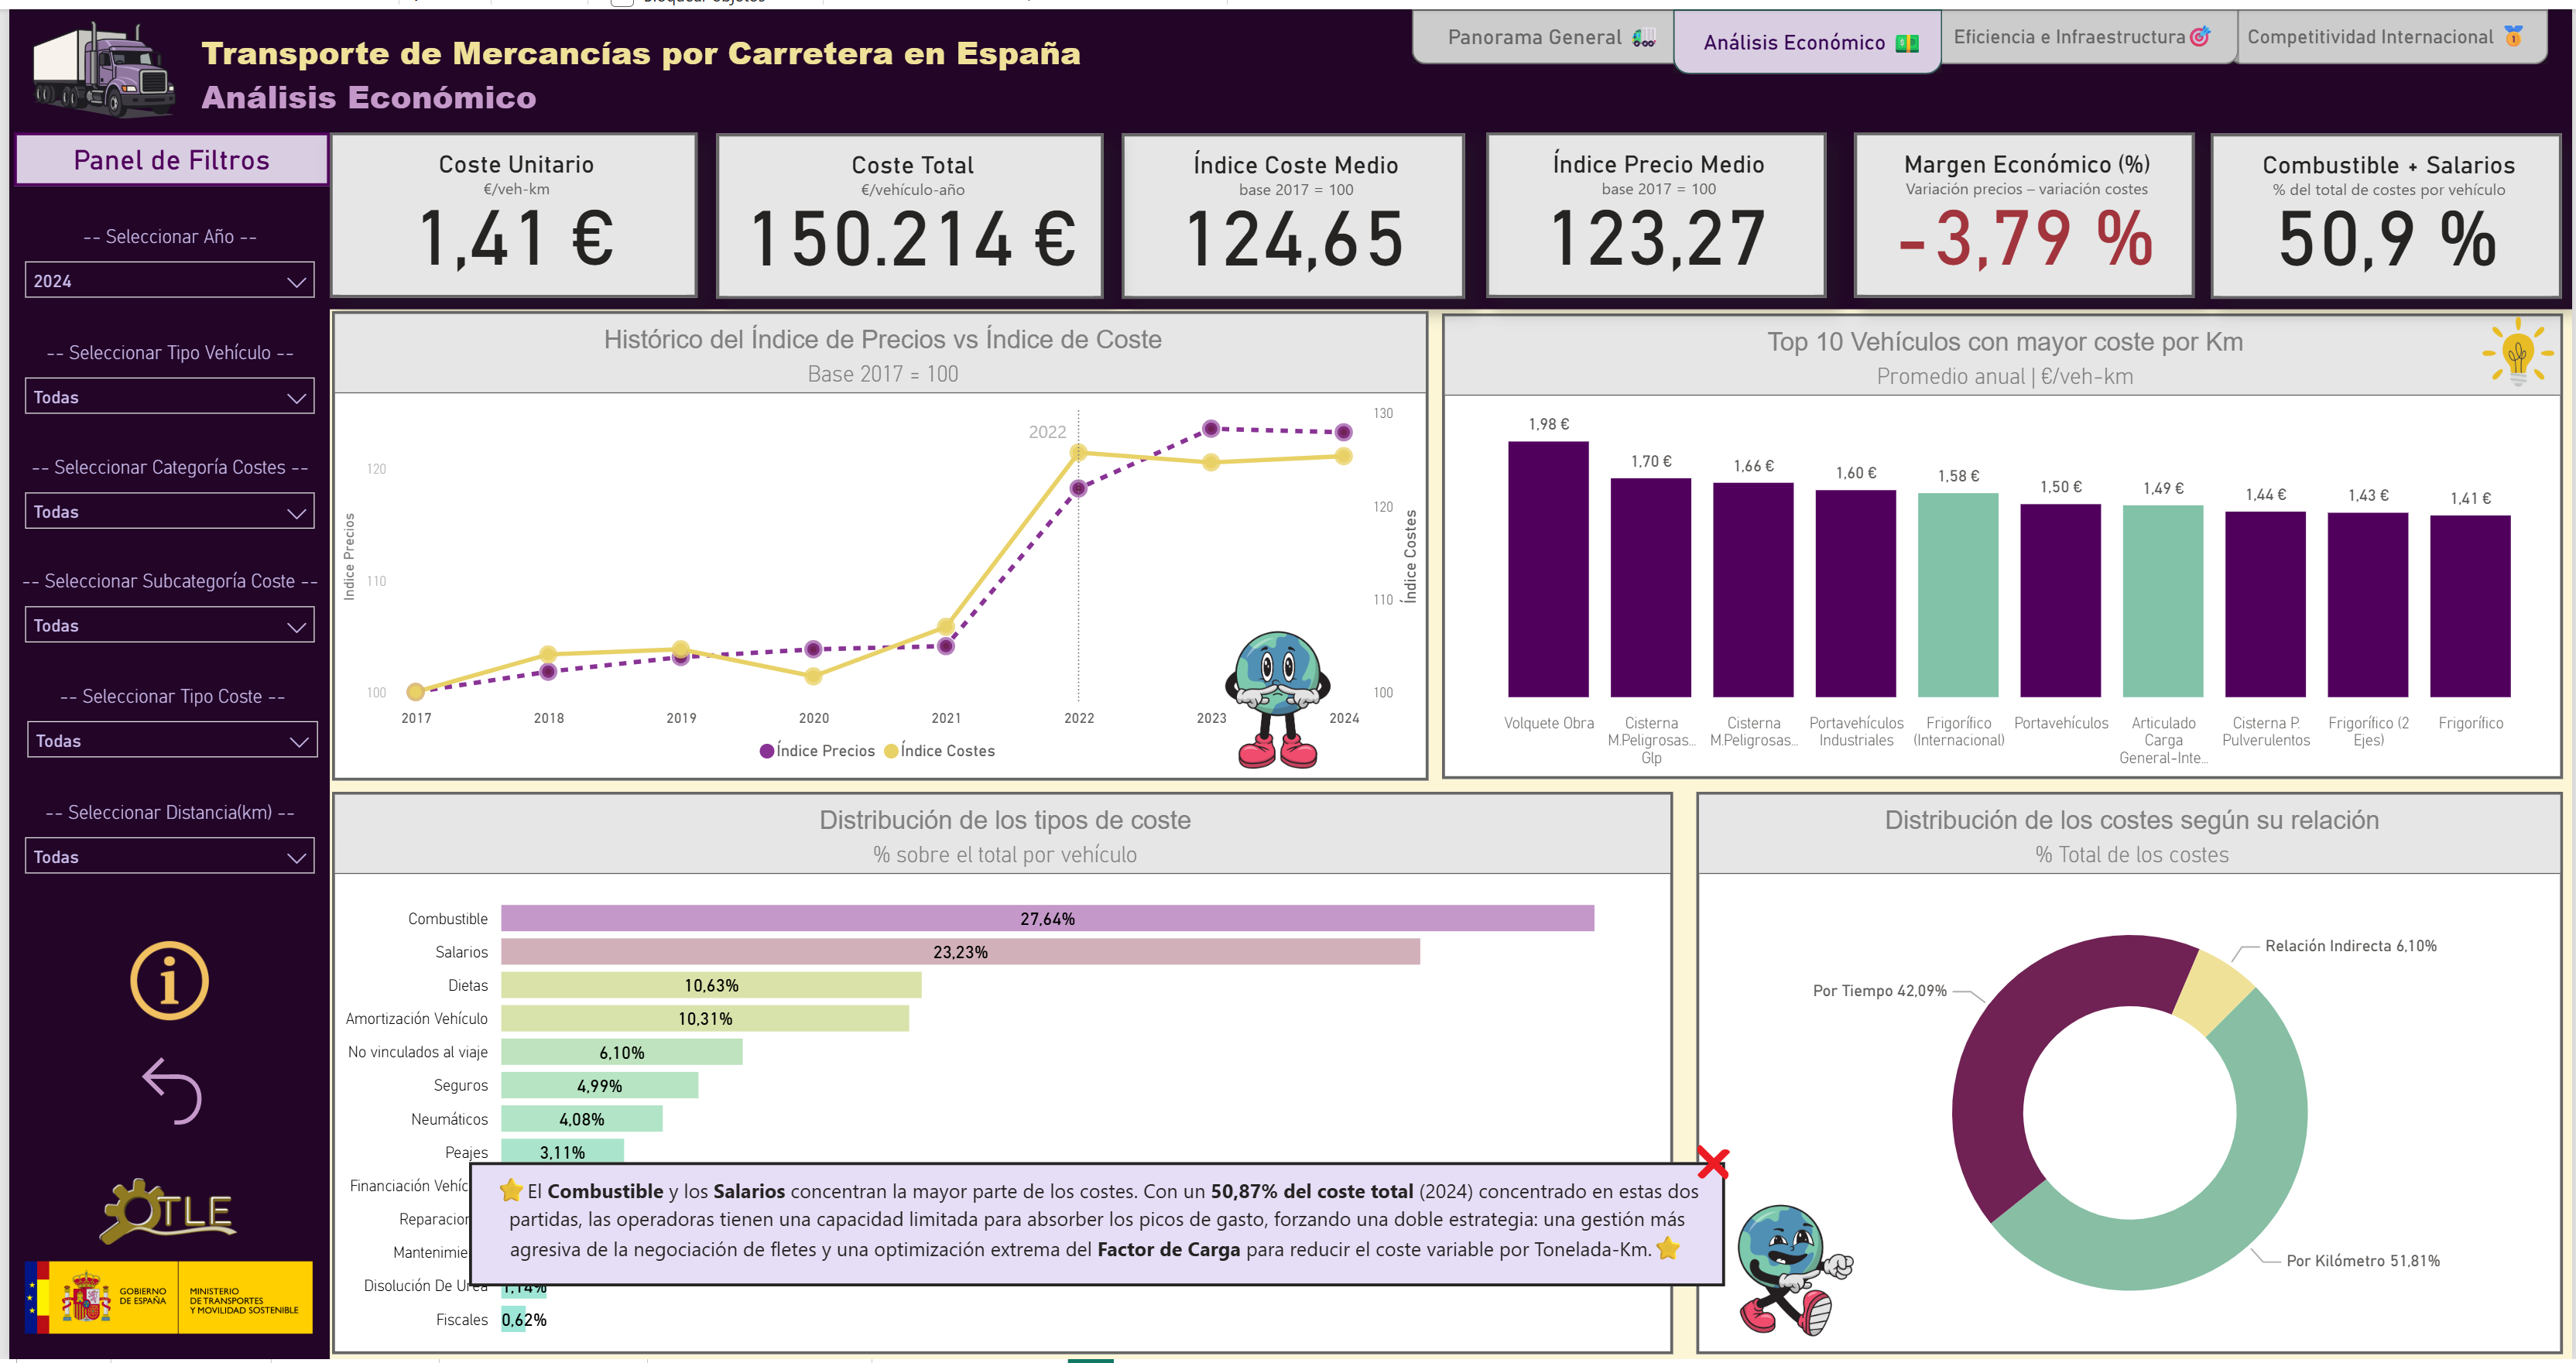

What the dashboard file says about the page in this screenshot:
{"tool":"powerbi","page":{"name":"Análisis Económico","canvas":[1747,920],"ordinal":2},"visuals":[{"type":"group","id":"g1","title":"Panel diseño","box":[0,0,1800,919.7],"z":0},{"type":"shape","box":[0,0,1800,204.6],"z":0,"group":"g1"},{"type":"shape","box":[0,81.2,218.5,838.5],"z":1000,"group":"g1"},{"type":"slicer","title":"-- Seleccionar Año --","fields":{"Values":["Año Dim.Año"]},"box":[0.9,146.8,217.6,63.9],"z":1000},{"type":"textbox","box":[125.8,8.7,637.8,70.4],"z":2000,"group":"g1"},{"type":"slicer","title":"-- Seleccionar Tipo Vehículo --","fields":{"Values":["Dim Vehiculo.Vehiculo"]},"box":[0.9,226.1,217.6,63],"z":2000},{"type":"slicer","title":"-- Seleccionar Subcategoría Coste --","fields":{"Values":["Dim Tipo Costes.Categoría (Según se miden)"]},"box":[1,382.3,217.6,63.3],"z":3000},{"type":"slicer","title":"-- Seleccionar Distancia(km) --","fields":{"Values":["C0497 Indice Precios.Distancia(Km)"]},"box":[1,539.7,217.6,64.2],"z":4000},{"type":"textbox","box":[3.2,83.9,215.2,36.4],"z":5000},{"type":"donutChart","title":"Distribución de los costes según su relación","fields":{"Y":["Medidas Económico.Total Costes"],"Series":["Dim Tipo Costes.Categoría (Según se miden)"]},"box":[1149.9,533,590.4,383.6],"z":6000},{"type":"slicer","title":"-- Seleccionar Categoría Costes --","fields":{"Values":["Dim Tipo Costes.Categoría (Según Relación)"]},"box":[1,304.6,217.6,62.3],"z":7000},{"type":"shape","box":[1512.6,0,218.2,37.5],"z":8000},{"type":"shape","box":[1309.3,0,209.8,37.5],"z":9000},{"type":"shape","box":[956.2,0,193.9,37.5],"z":10000},{"type":"image","box":[4,846.7,208.9,62.5],"z":11000},{"type":"image","box":[3.6,791.4,208.6,55.8],"z":12000},{"type":"actionButton","box":[81.5,705.2,59,63.7],"z":13000},{"type":"shape","box":[1133.9,0,183.6,44.3],"z":14000},{"type":"clusteredColumnChart","title":"Top 10 Vehículos con mayor coste por Km","fields":{"Category":["Dim Vehiculo.Vehiculo"],"Y":["Medidas Económico.Promedio Coste Vehiculo-km"]},"box":[976.8,206.9,764,317.5],"z":15000},{"type":"cardVisual","title":"Coste Unitario","fields":{"Data":["Medidas Económico.Promedio Coste Vehiculo-km"]},"box":[218.6,83.9,250.9,112.8],"z":16000},{"type":"cardVisual","title":"Índice Precio Medio","fields":{"Data":["Medidas Económico.Promedio Precio"]},"box":[1006.2,83.9,231.7,112.8],"z":17000},{"type":"cardVisual","title":"Índice Coste Medio","fields":{"Data":["Medidas Económico.Indice Coste Medio"]},"box":[758,84.8,234.3,112.8],"z":18000},{"type":"cardVisual","title":"Coste Total","fields":{"Data":["Medidas Económico.Promedio Coste Vehiculo"]},"box":[481.7,84.8,264,112.8],"z":19000},{"type":"cardVisual","title":"Margen Económico (%)","fields":{"Data":["Medidas Económico.Margen Económico (%)"]},"box":[1257.1,83.9,231.7,112.8],"z":20000},{"type":"cardVisual","title":"Combustible + Salarios","fields":{"Data":["Medidas Económico.Coste Combustible y Salarios (%)"]},"box":[1500.2,84.8,239.5,112.8],"z":21000},{"type":"slicer","title":"-- Seleccionar Tipo Coste --","fields":{"Values":["Dim Tipo Costes.Tipo Costes"]},"box":[2.7,460.1,217.8,62.9],"z":22000},{"type":"lineChart","title":"Histórico del Índice de Precios vs Índice de Coste","fields":{"Y":["Avg(KPI Costes vs Precios.Indice Precios)"],"Y2":["Avg(KPI Costes vs Precios.Indice Costes)"],"Category":["Dim Año.Año"]},"box":[219.6,205.9,747.2,319.8],"z":23000},{"type":"clusteredBarChart","title":"Distribución de los tipos de coste","fields":{"Category":["Dim Tipo Costes.Tipo Costes"],"Y":["Divide(Medidas Económico.Total Costes, ScopedEval(Medidas Económico.Total Costes, []))"]},"box":[219.6,533,913.9,383.6],"z":24000},{"type":"image","box":[4,0,121.9,81.5],"z":25000},{"type":"image","box":[76.8,629.4,64.6,66.5],"z":26000},{"type":"image","box":[1165.4,807.3,103.9,102.1],"z":27000},{"type":"image","box":[809.1,416.4,109.3,106.6],"z":28000},{"type":"image","box":[1679.7,201.9,60.7,63.6],"z":33000}]}

Visuals, with their boxes in screenshot pixels (x1, y1, x2, y2), scaled from the page's 1747x920 canvas onto the 2576x1363 screenshot:
"Panel diseño" group: [0,0,2575,1362]
shape: [0,0,2575,303]
shape: [0,120,322,1362]
"-- Seleccionar Año --" slicer: [2,217,322,312]
textbox: [186,13,1126,117]
"-- Seleccionar Tipo Vehículo --" slicer: [2,335,322,428]
"-- Seleccionar Subcategoría Coste --" slicer: [2,567,322,660]
"-- Seleccionar Distancia(km) --" slicer: [2,800,322,895]
textbox: [5,125,322,178]
"Distribución de los costes según su relación" donutChart: [1696,789,2566,1358]
"-- Seleccionar Categoría Costes --" slicer: [2,451,322,543]
shape: [2230,0,2552,56]
shape: [1930,0,2240,56]
shape: [1410,0,1696,56]
image: [6,1255,314,1347]
image: [5,1173,313,1255]
actionButton: [120,1045,207,1139]
shape: [1672,0,1943,66]
"Top 10 Vehículos con mayor coste por Km" clusteredColumnChart: [1440,307,2567,777]
"Coste Unitario" cardVisual: [322,125,692,292]
"Índice Precio Medio" cardVisual: [1484,125,1825,292]
"Índice Coste Medio" cardVisual: [1118,125,1463,293]
"Coste Total" cardVisual: [711,125,1100,293]
"Margen Económico (%)" cardVisual: [1854,125,2195,292]
"Combustible + Salarios" cardVisual: [2212,125,2565,293]
"-- Seleccionar Tipo Coste --" slicer: [4,682,325,775]
"Histórico del Índice de Precios vs Índice de Coste" lineChart: [324,305,1426,779]
"Distribución de los tipos de coste" clusteredBarChart: [324,789,1671,1358]
image: [6,0,186,121]
image: [113,933,208,1031]
image: [1718,1196,1872,1348]
image: [1193,617,1355,775]
image: [2477,299,2566,393]
